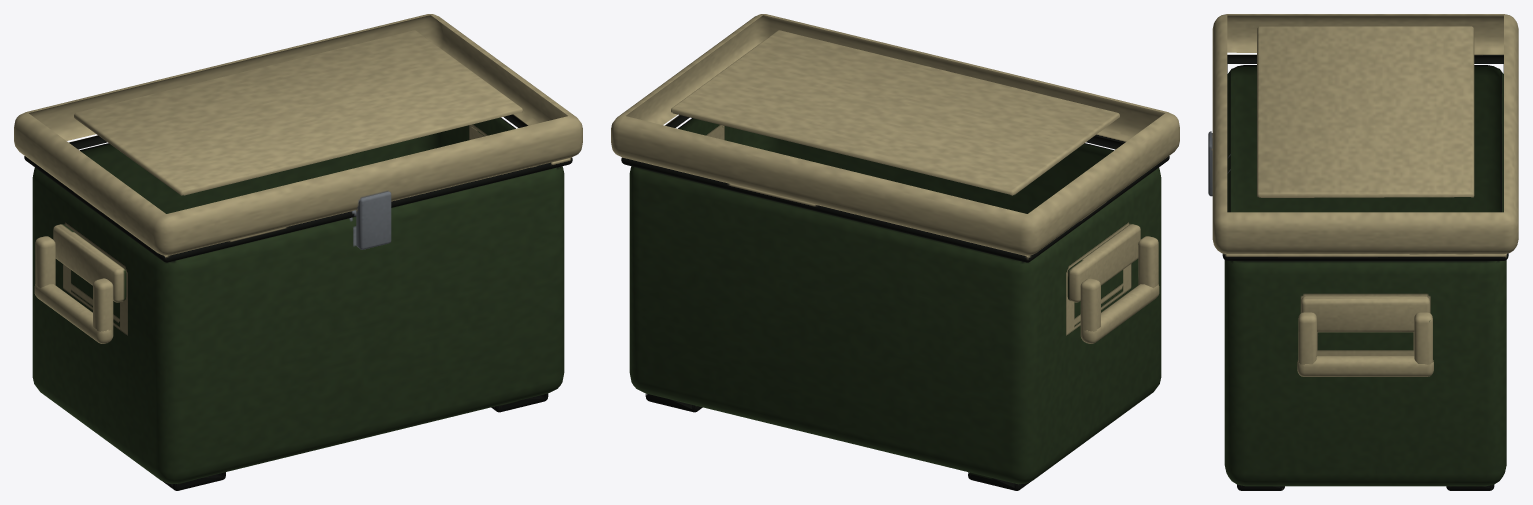
Rendered from camp-cooler.glb.
The picture shows the model from 3 angles, left to right: view 1: azimuth 30°, elevation 25°; view 2: azimuth 150°, elevation 25°; view 3: azimuth 270°, elevation 25°; orthographic projection.
Parts seen in each view (by area): view 1: LOD0; view 2: LOD0; view 3: LOD0.
Part boxes in pixels (left/top/right/bottom): LOD0: left=14, top=14, right=582, bottom=490; LOD0: left=611, top=14, right=1179, bottom=490; LOD0: left=1208, top=14, right=1518, bottom=490.
Size of the model in its own units: 0.66 by 0.3939 by 0.3799.
1 material, 1 textured.
